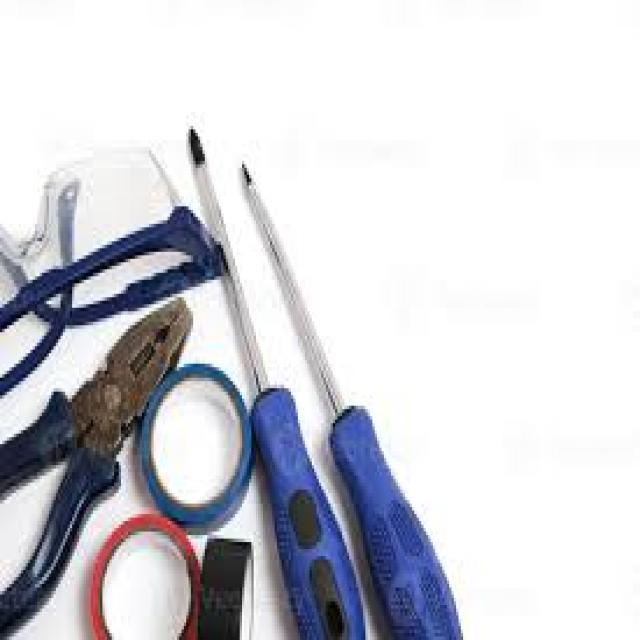screwdriver: (240, 147, 468, 640), (185, 106, 369, 638)
